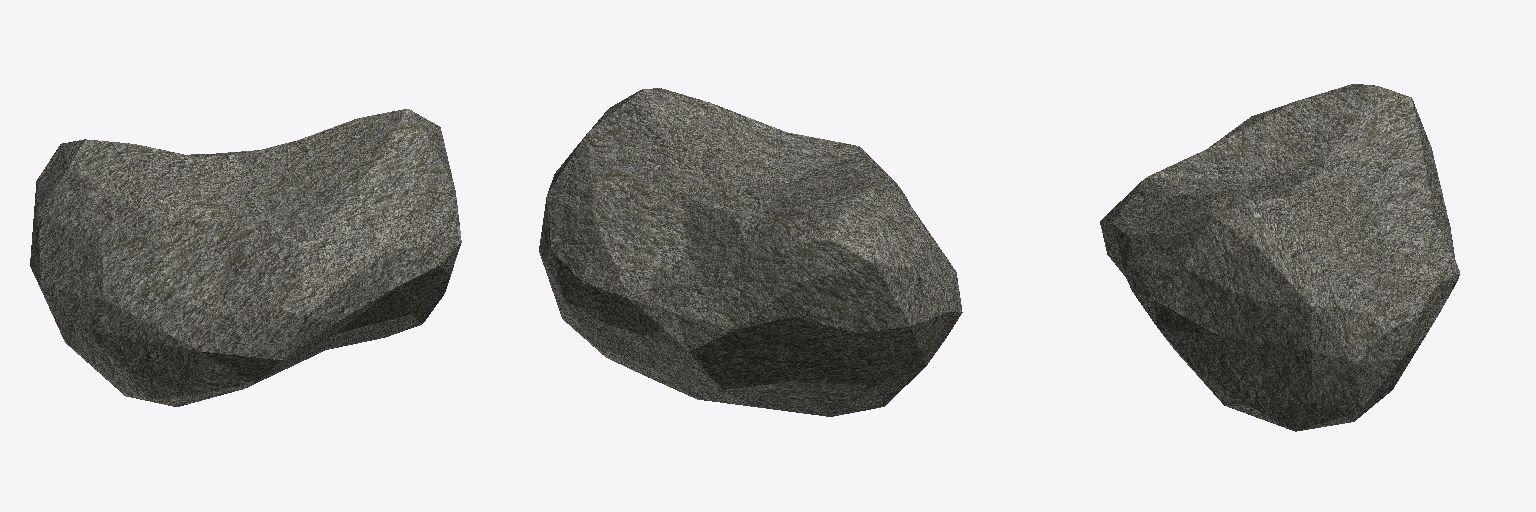
3 views of the same model, side by side, from view 1: azimuth 30°, elevation 25°; view 2: azimuth 150°, elevation 25°; view 3: azimuth 270°, elevation 25° (orthographic).
Visible parts, largest first — view 1: cubicflat128_Cube; view 2: cubicflat128_Cube; view 3: cubicflat128_Cube.
Part boxes in pixels (bbox=[...]): cubicflat128_Cube: bbox=[30, 109, 461, 406]; cubicflat128_Cube: bbox=[539, 88, 962, 416]; cubicflat128_Cube: bbox=[1100, 84, 1459, 431].
Bounding box in the file's own units: 2.51 × 1.5 × 1.99.
Materials: 1 (1 with a texture image).